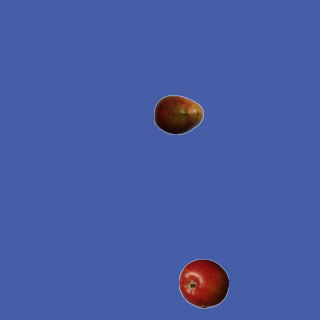Apple Braeburn: (178, 258, 228, 308)
Mango Red: (153, 89, 203, 139)
